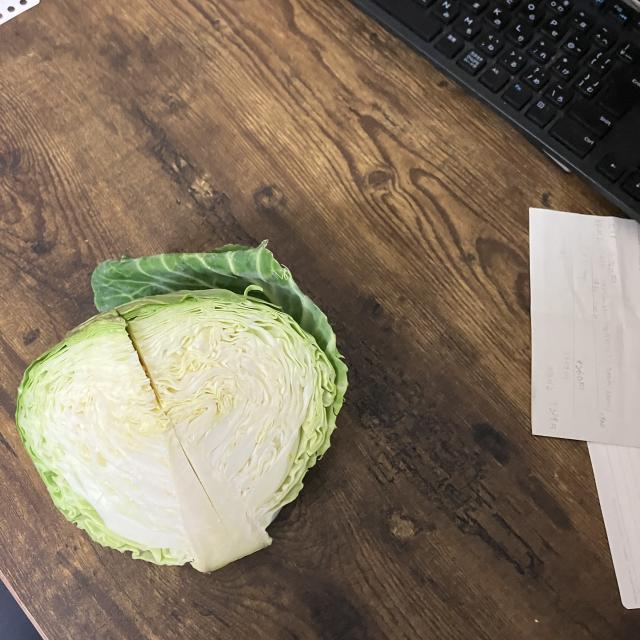haft-cabbage: (12, 237, 351, 578)
